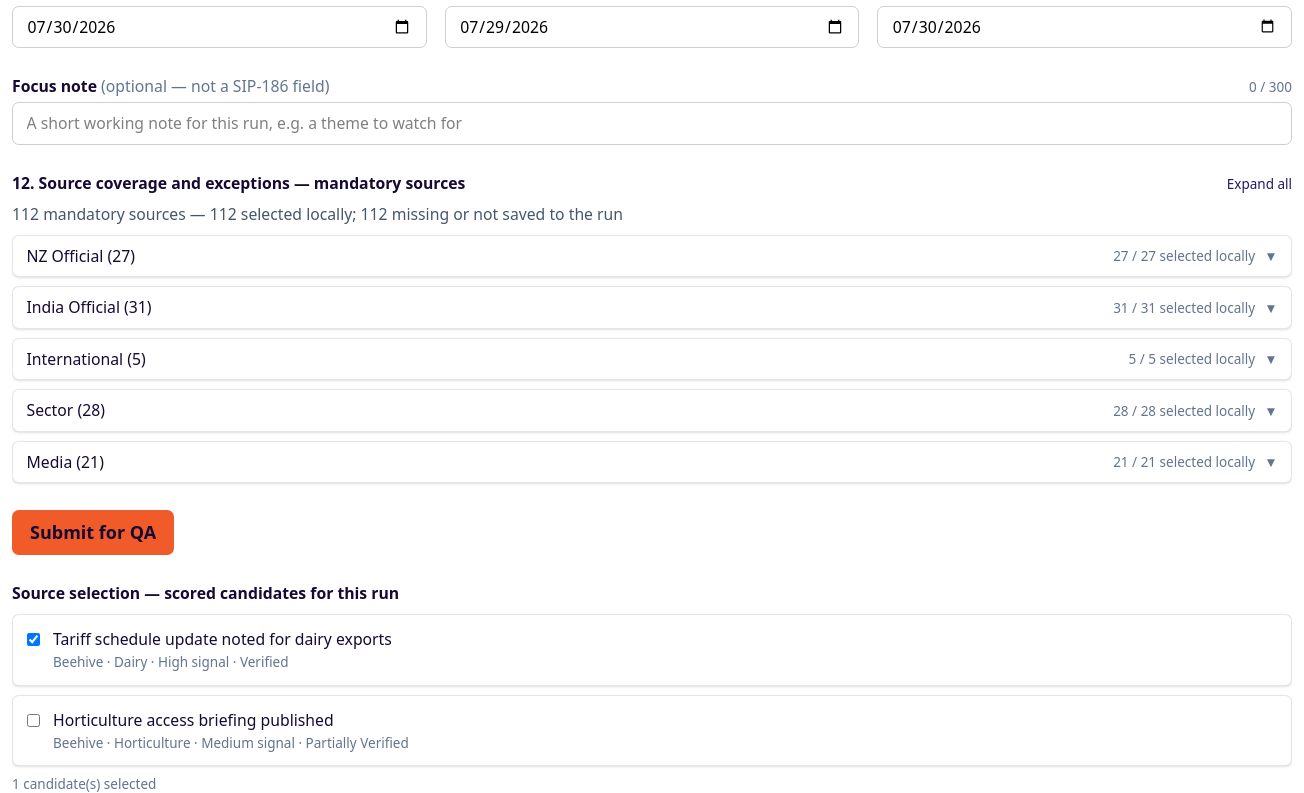
BriefBuilderScreen › does not treat locally filled outcomes as saved coverage
(page scrolled)
Click the button "Submit for QA".
click(93, 533)  # box left=12, top=510, right=174, bottom=556
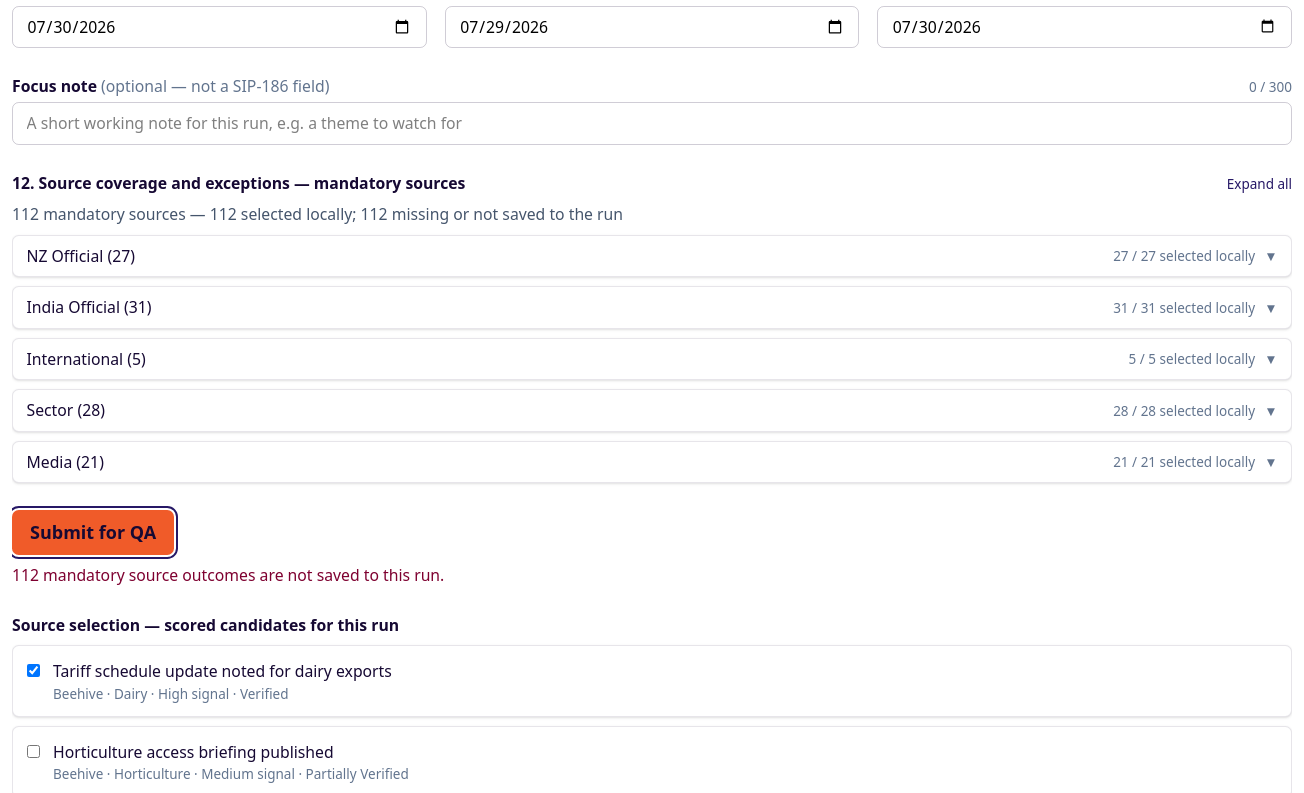
Check: the message shows "not saved to this run", box left=12, top=564, right=444, bottom=586
